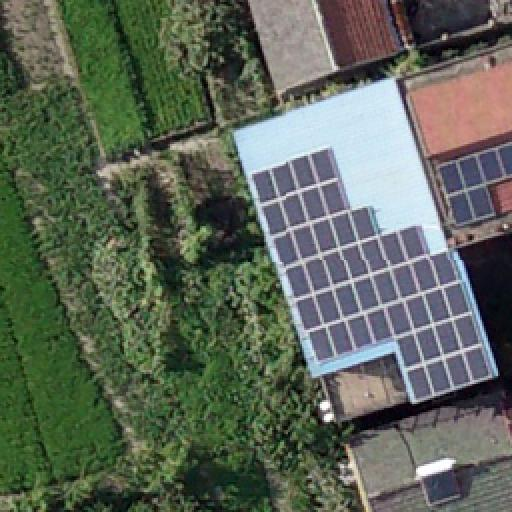solar-panel: (250, 146, 490, 398), (436, 144, 512, 228)
